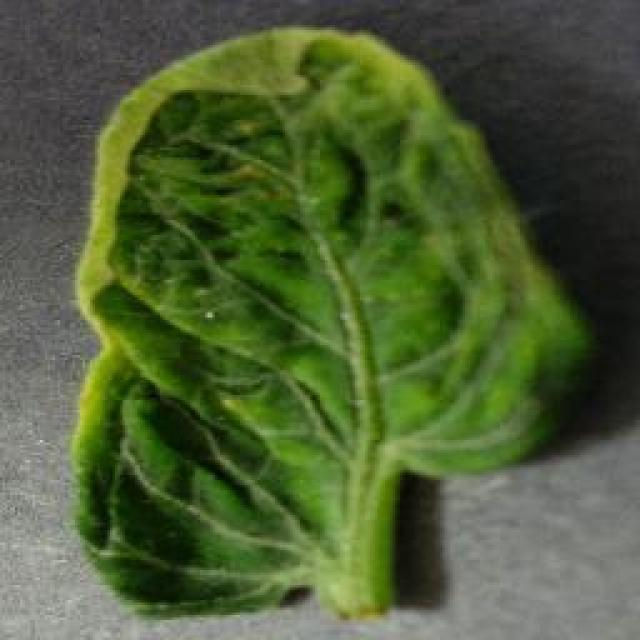Tomato yellow virus leaf: (67, 24, 590, 624)
